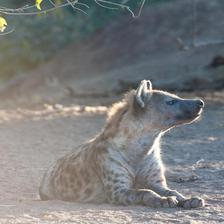hyena: (42, 77, 224, 216)
